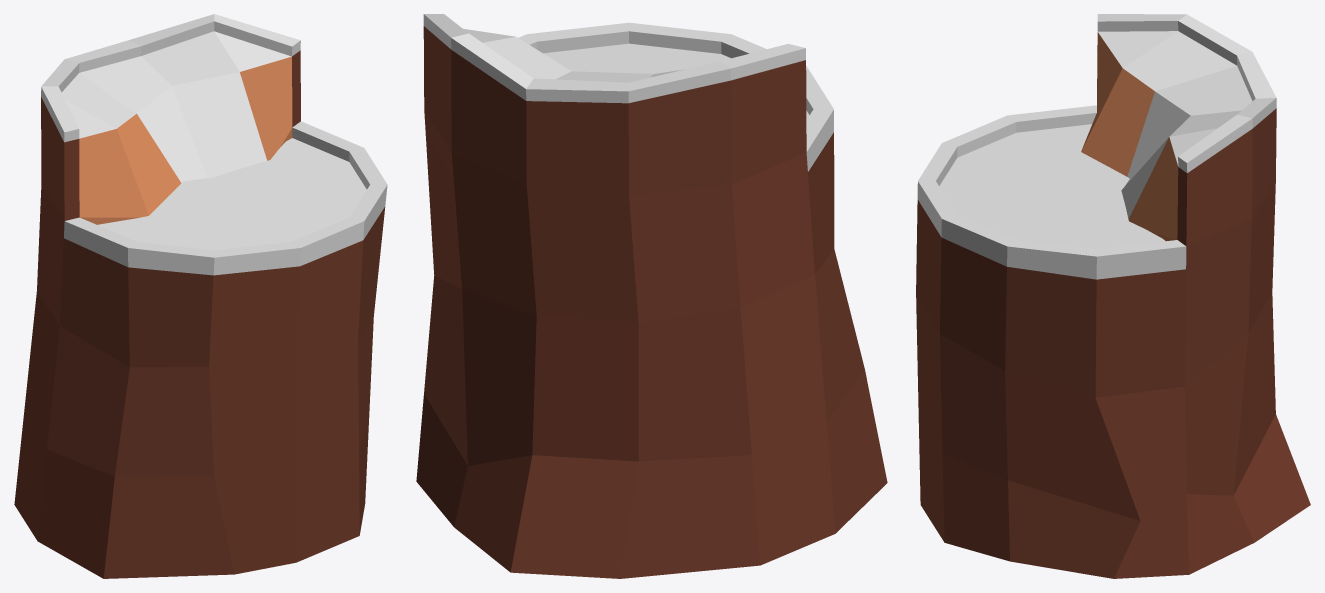
The model's file is pine_trunk_type_5_extra_LOD0.fbx.
3 views of the same model, side by side, from view 1: azimuth 30°, elevation 25°; view 2: azimuth 150°, elevation 25°; view 3: azimuth 270°, elevation 25° (orthographic). The views are drawn at different scales.
Visible parts, largest first — view 1: Cylinder.002; view 2: Cylinder.002; view 3: Cylinder.002.
Part boxes in pixels (bbox=[...]): Cylinder.002: bbox=[14, 14, 387, 578]; Cylinder.002: bbox=[416, 14, 887, 578]; Cylinder.002: bbox=[916, 14, 1310, 578].
Bounding box in the file's own units: 219 × 263 × 221.
